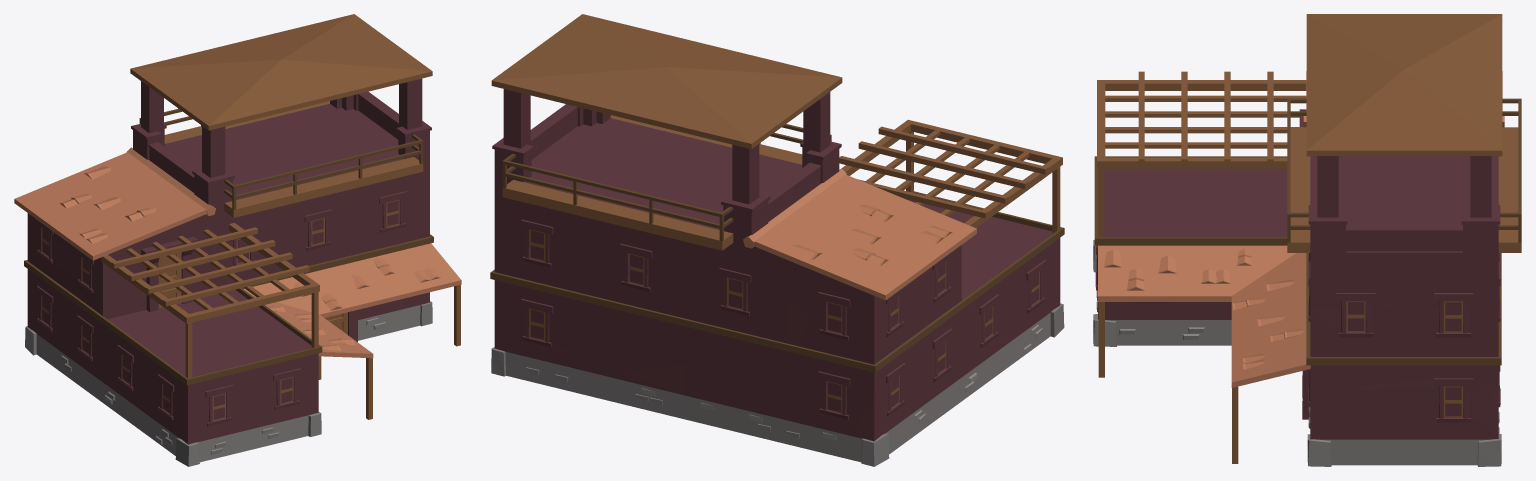
File: SM_House_Rich_Medium_Empire.fbx
The picture shows the model from 3 angles, left to right: view 1: azimuth 30°, elevation 25°; view 2: azimuth 150°, elevation 25°; view 3: azimuth 270°, elevation 25°; orthographic projection. The views are drawn at different scales.
Parts seen in each view (by area): view 1: SM_House_Rich_Medium_Empire; view 2: SM_House_Rich_Medium_Empire; view 3: SM_House_Rich_Medium_Empire.
Part boxes in pixels (box(x1,y1,x2,y2)): SM_House_Rich_Medium_Empire: box(14, 14, 461, 466); SM_House_Rich_Medium_Empire: box(490, 14, 1064, 466); SM_House_Rich_Medium_Empire: box(1093, 14, 1521, 466).
Bounding box in the file's own units: 13.87 × 10.22 × 12.08.
